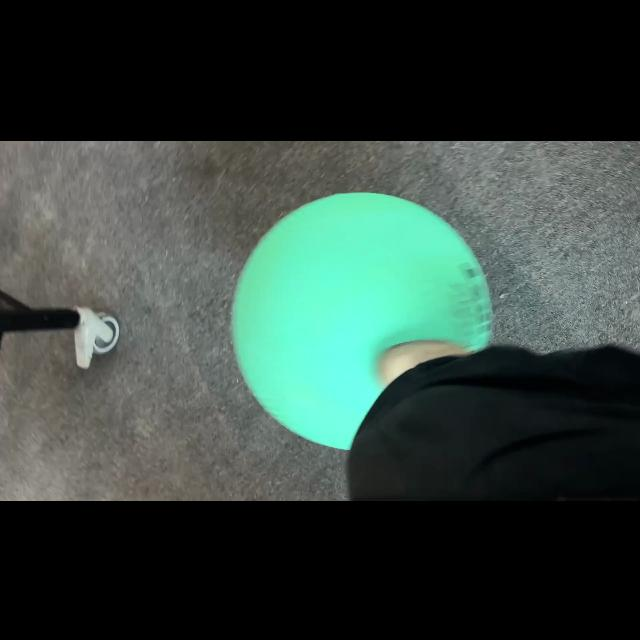ALGAE: (230, 190, 494, 450)
